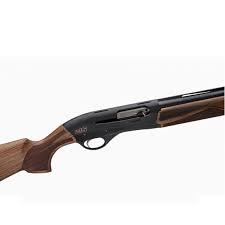weapon: (1, 86, 224, 181)
